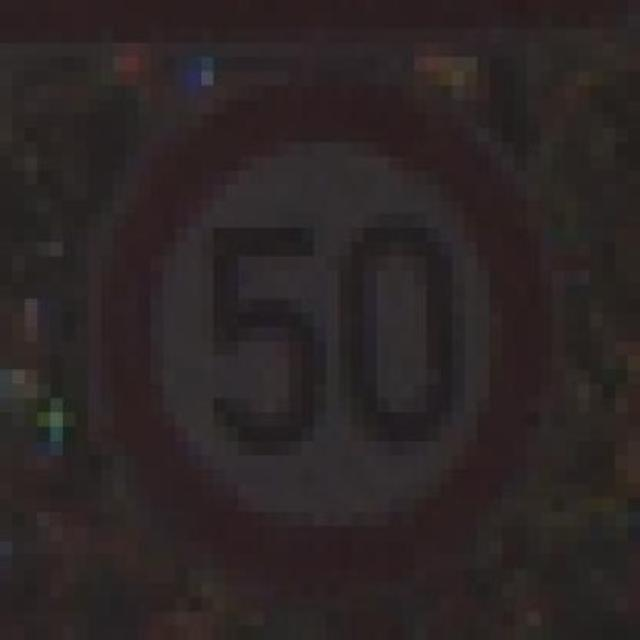Speed limit 50: (81, 80, 576, 599)
